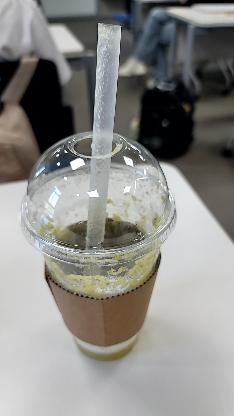Plastic Cup: (19, 132, 175, 361), (18, 132, 178, 266), (82, 17, 124, 251)
